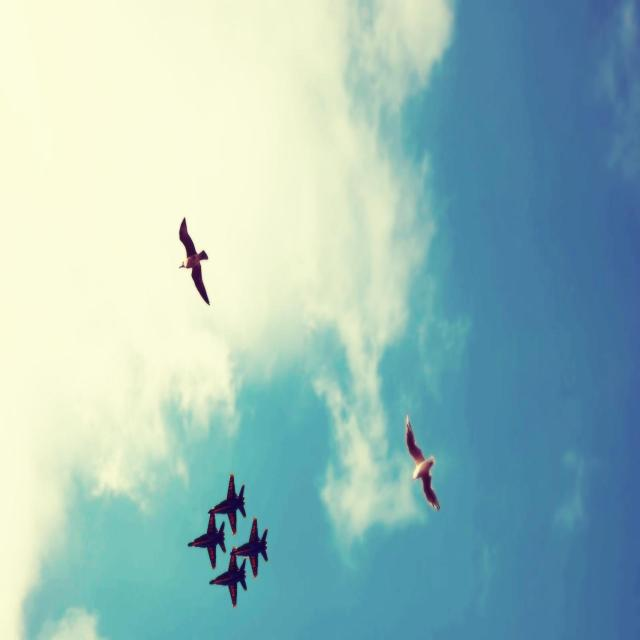airplane: (208, 473, 246, 534), (187, 511, 226, 569), (231, 517, 268, 578), (209, 550, 247, 607)
